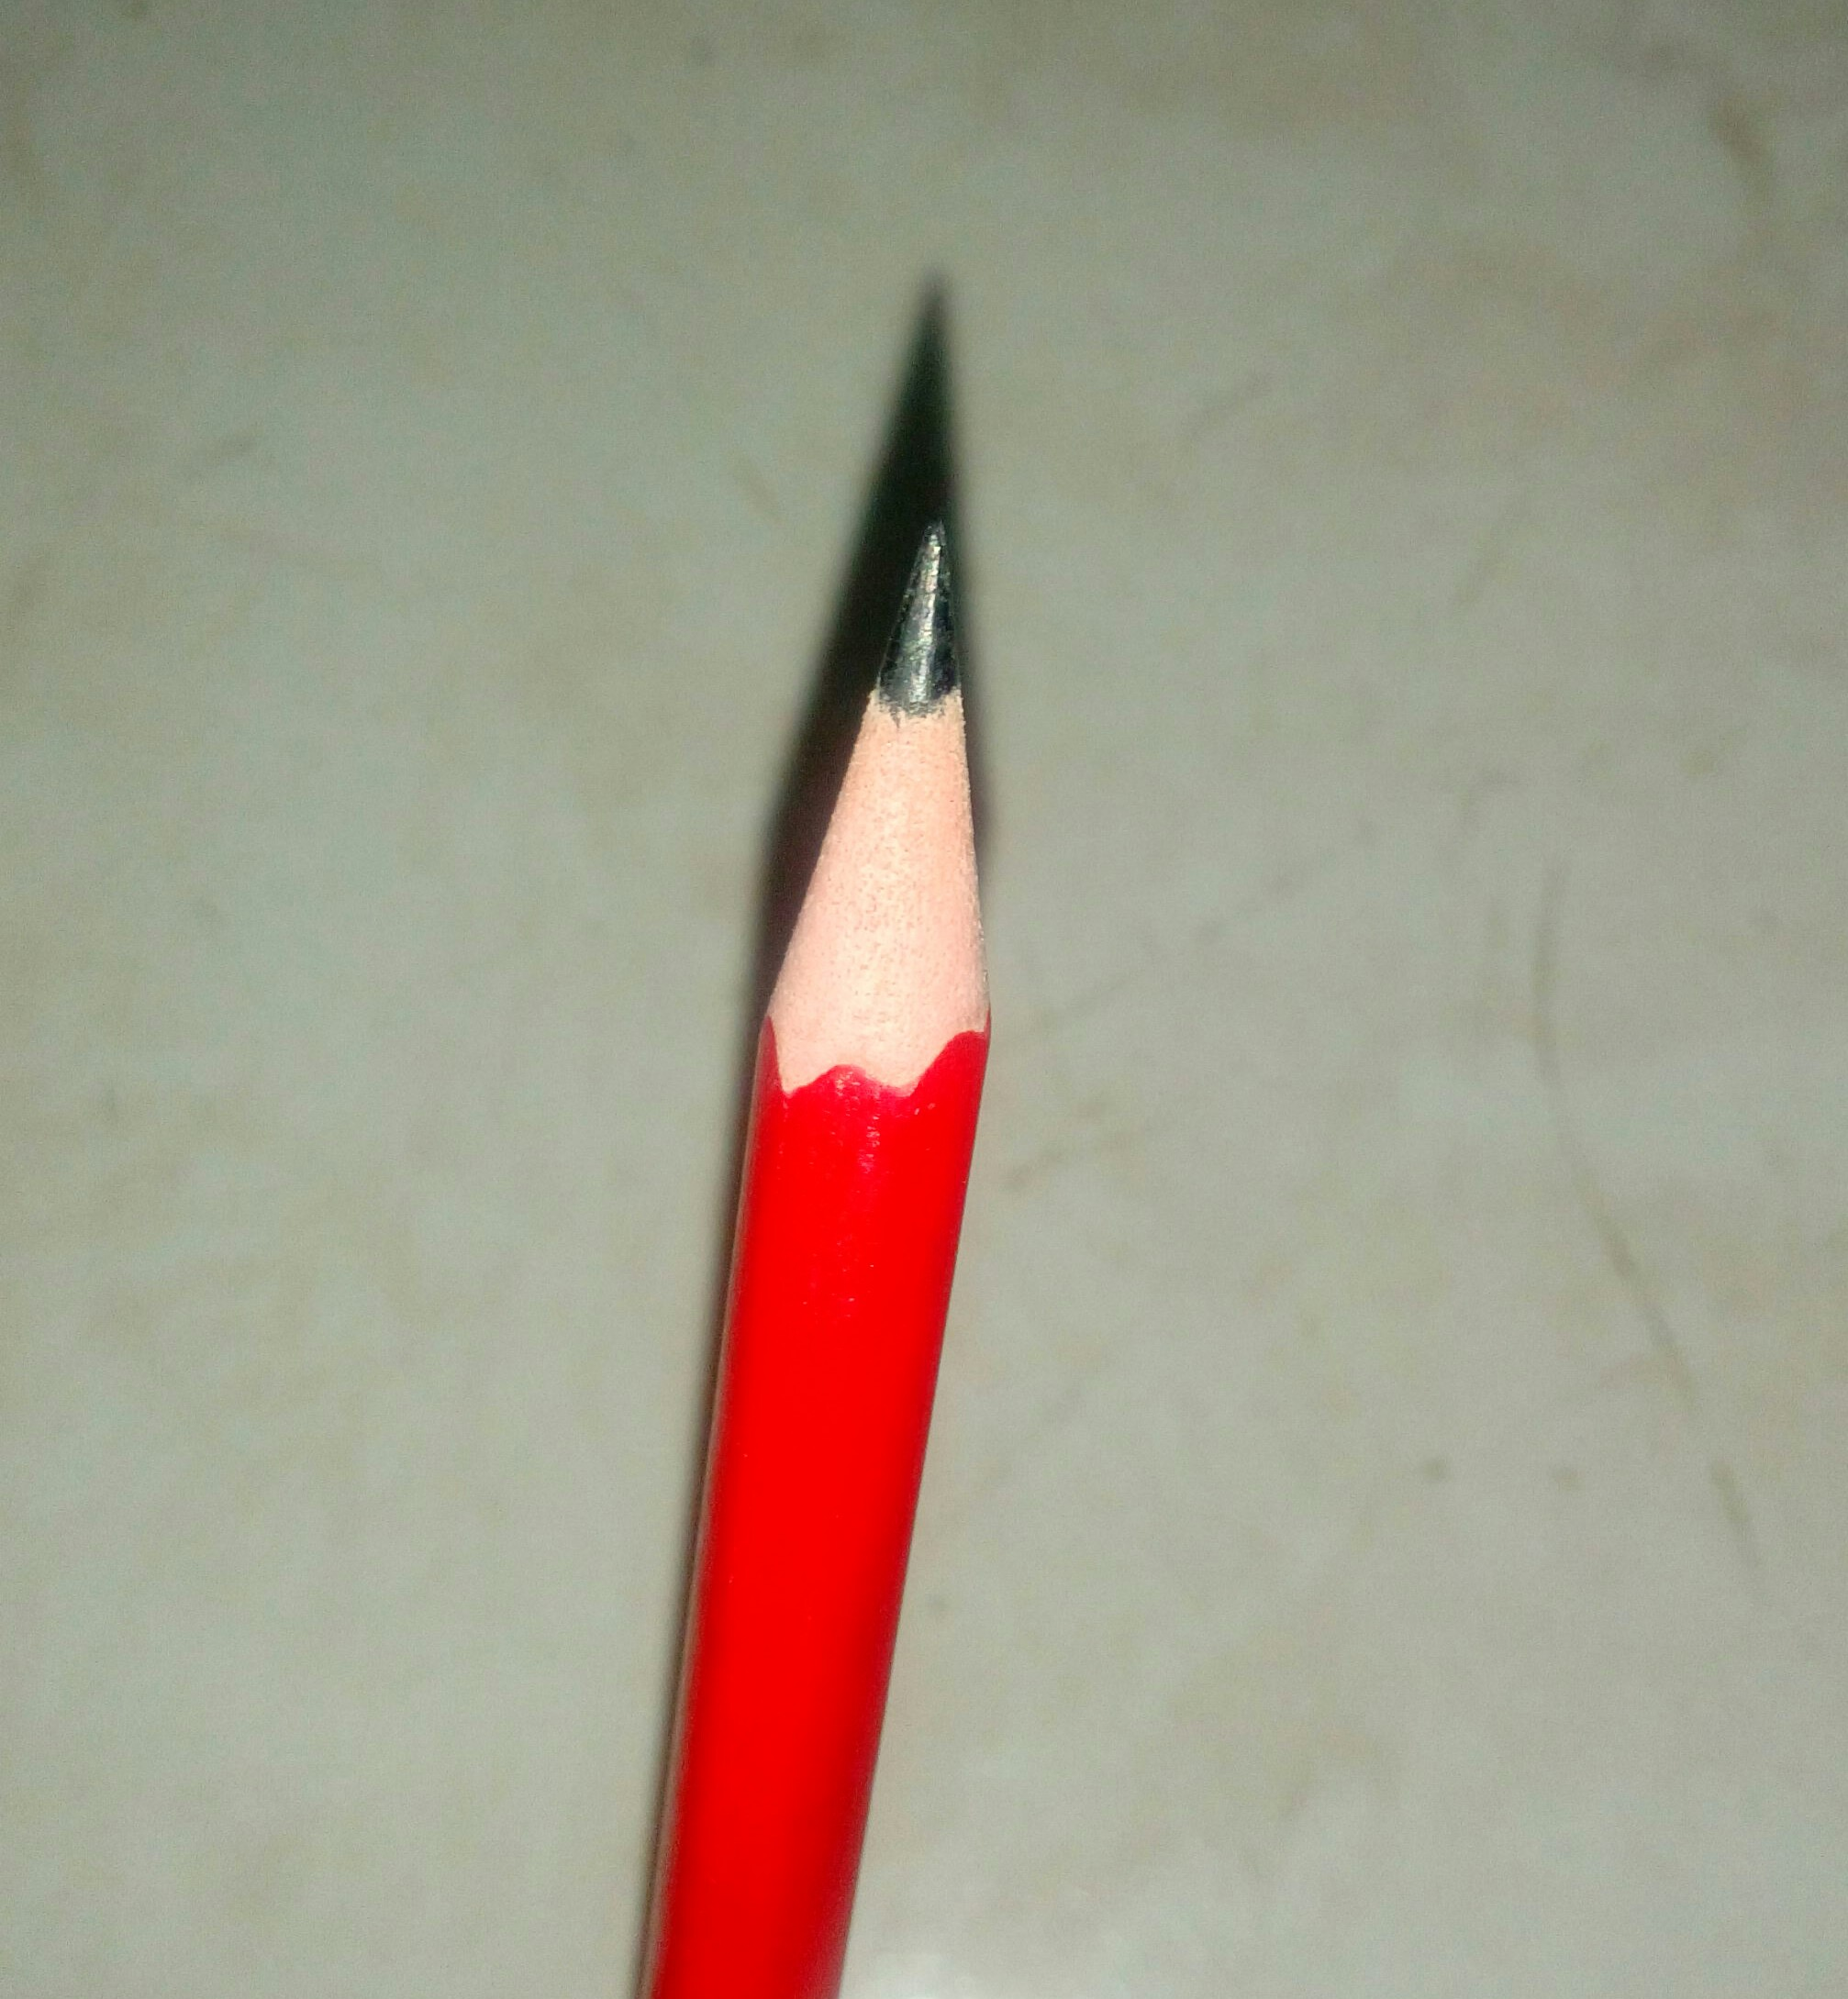pen_tip: (648, 454, 1228, 1245)
